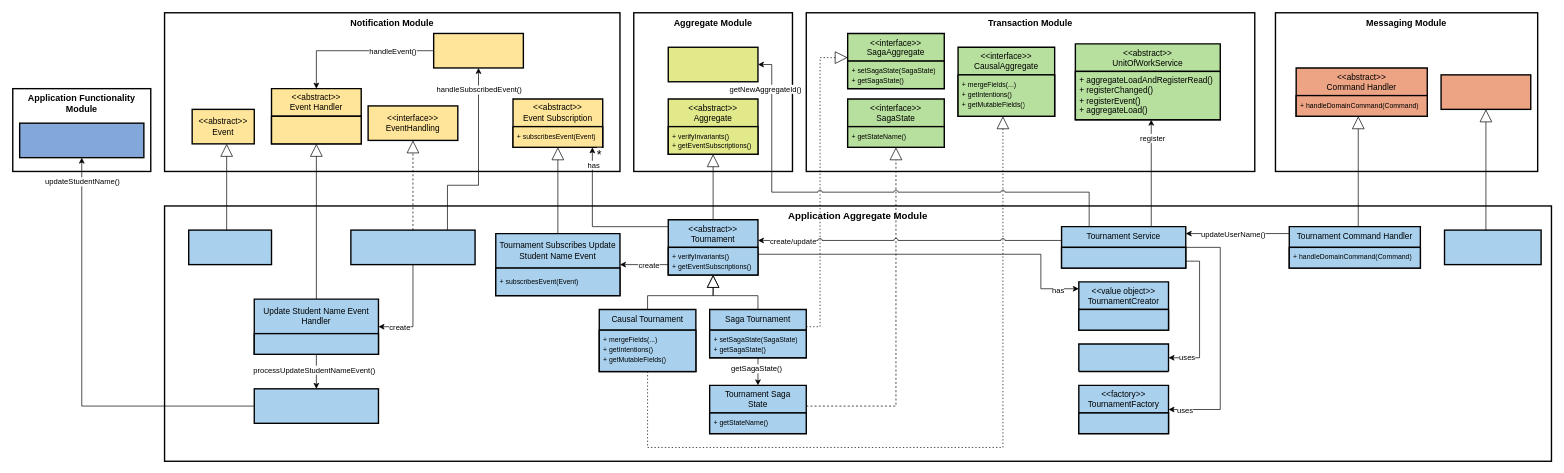
This 1564x473 diagram has some shape labels left out. Each missing label, with the centre of its shape:
"+ createTournament()" belongs at pixel 1123 423.
"+ getAggregateIds() + handleEvent(Event)" belongs at pixel 316 129.
"+ handleEvent(Event)" belongs at pixel 316 344.
"+ name" belongs at pixel 1123 319.
"+ updateUserName()" belongs at pixel 1123 257.
"<<repository>> TournamentRepository" belongs at pixel 1123 357.
"@Scheduled Tournament Event Handling" belongs at pixel 412 247.
"AggregateIdGenerator Service" belongs at pixel 712 64.
"Command" belongs at pixel 1485 92.
"Event Application Service" belongs at pixel 478 50.
"Tournament Event Processing" belongs at pixel 316 406.
"Tournament Functionalities" belongs at pixel 81 140.
"Update User Name Command" belongs at pixel 1492 247.
"UpdateStudent NameEvent" belongs at pixel 230 247.
